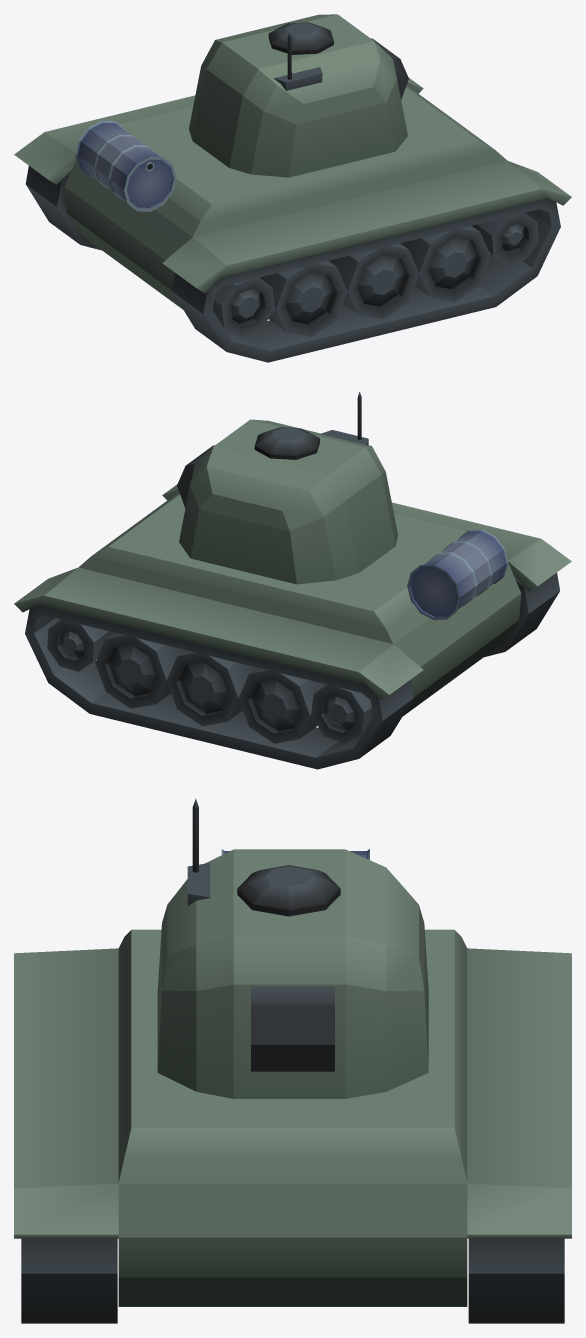
Rendered from Player Tank.fbx.
3 renders of one model, top to bottom at view 1: azimuth 30°, elevation 25°; view 2: azimuth 150°, elevation 25°; view 3: azimuth 270°, elevation 25°, orthographic. The views are drawn at different scales.
Visible parts, largest first — view 1: Body, Head; view 2: Body, Head; view 3: Body, Head.
Boxes of the visible parts, box(x1,y1,x2,y2) form: Body: box(14, 78, 571, 362); Head: box(189, 14, 408, 177); Body: box(14, 484, 571, 769); Head: box(177, 392, 397, 584); Body: box(14, 849, 571, 1323); Head: box(157, 798, 428, 1098).
Bounding box in the file's own units: 383 × 260 × 318.
